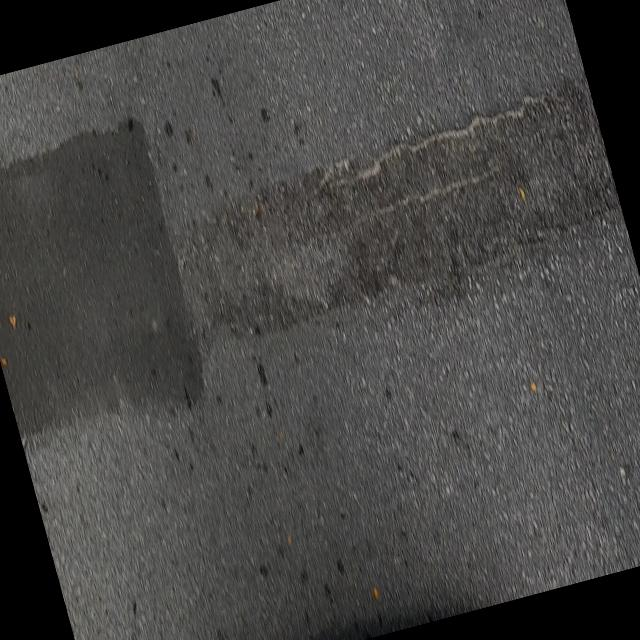Retak-Melintang: (326, 80, 553, 191), (318, 163, 496, 244)
